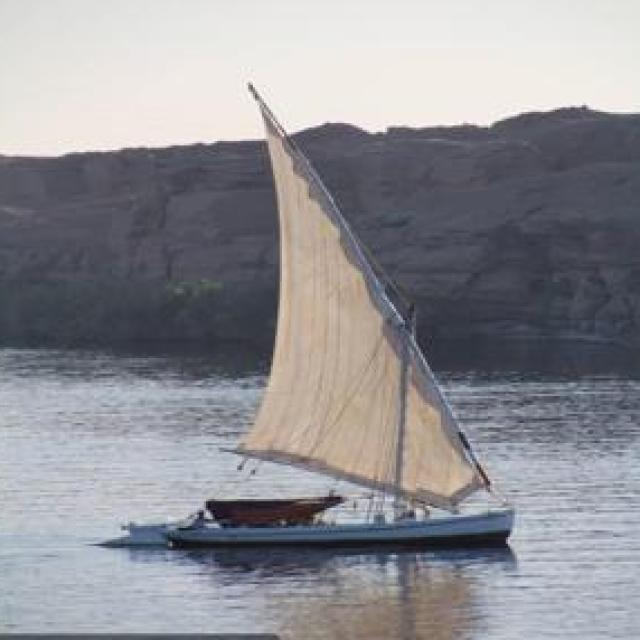sailboat: (158, 79, 513, 546)
